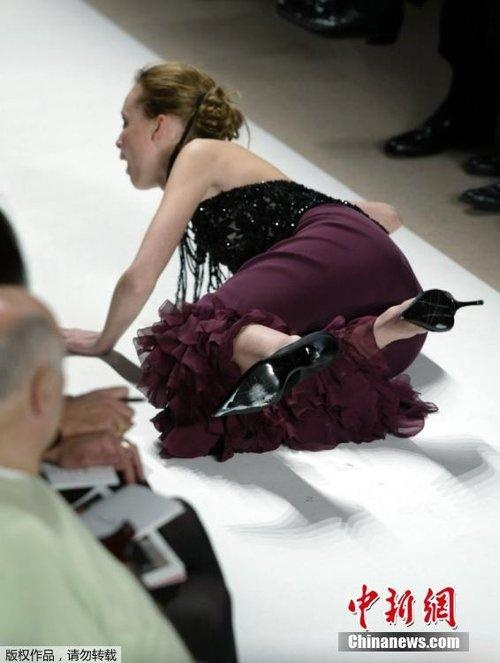falling: (65, 54, 476, 466)
